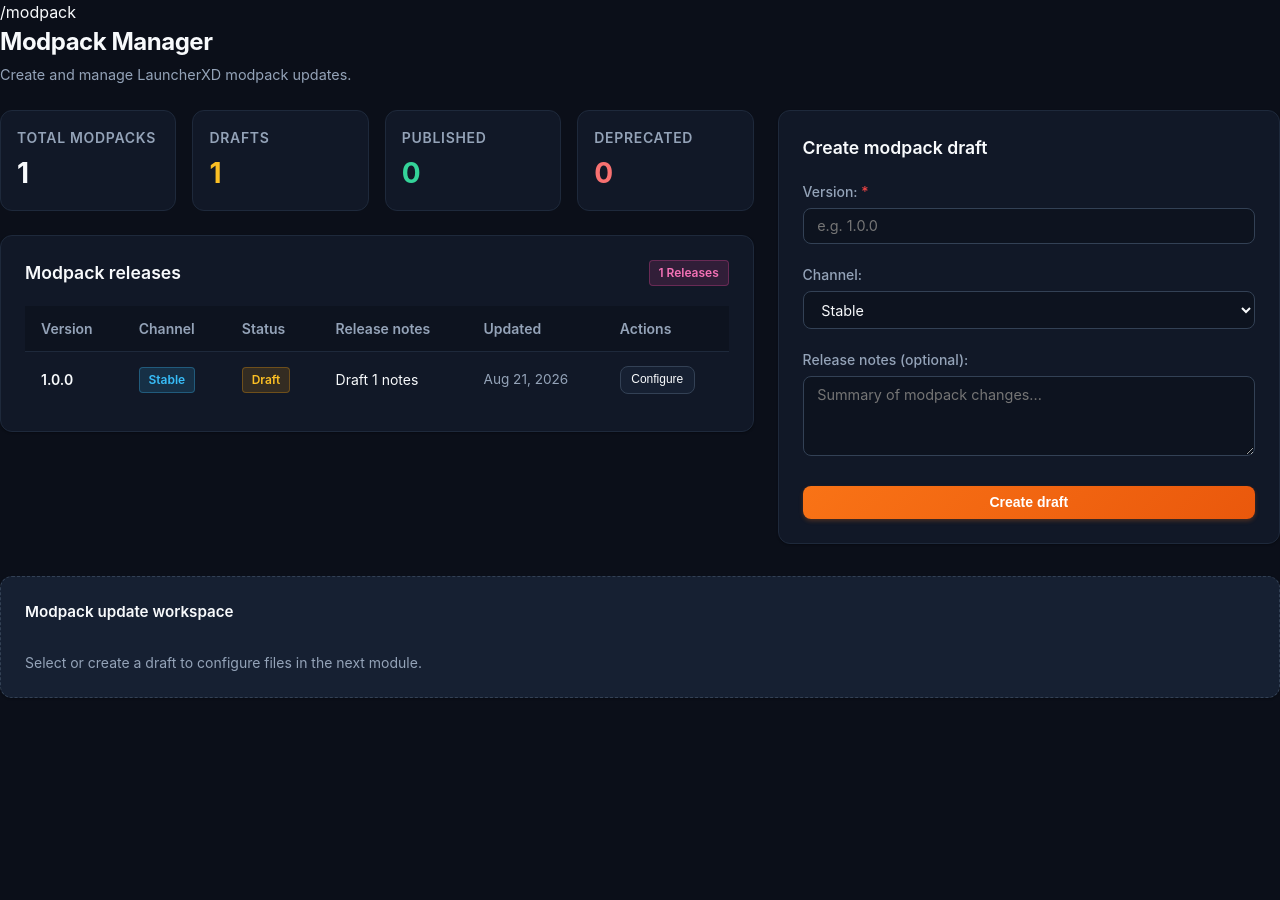
it: Modpack Workspace Inline UI Functional Tests (Module 3B-1) › 1. Configure button selects a draft without changing /modpack URL
Click the button with test id "configure-modpack-modpack-draft-1". click: click(657, 380)
box: [620,366,695,394]
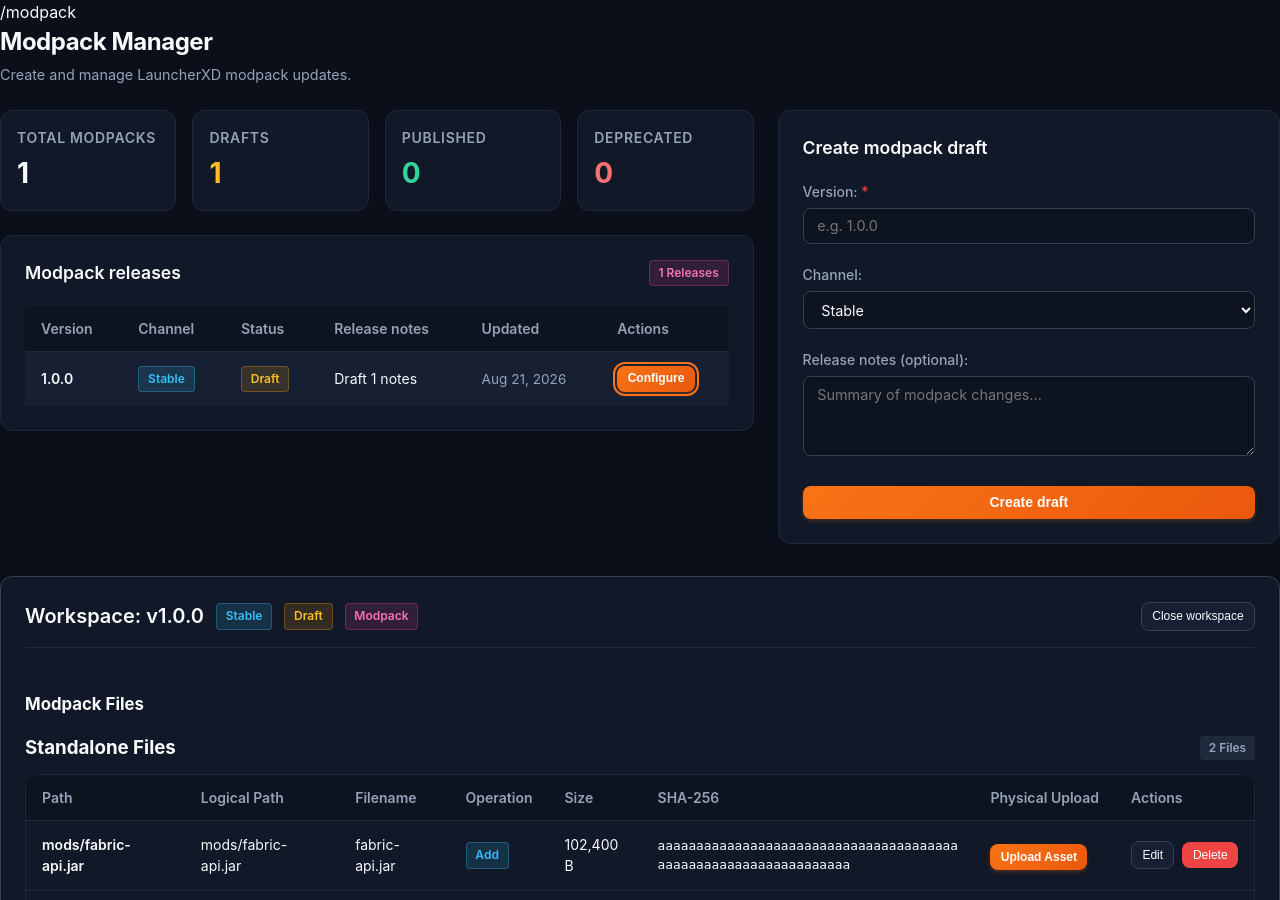
Check: the text "/modpack" is shown, box [0,2,76,22]
Check: the heading "Workspace: v1.0.0" is shown, box [25,602,204,632]
